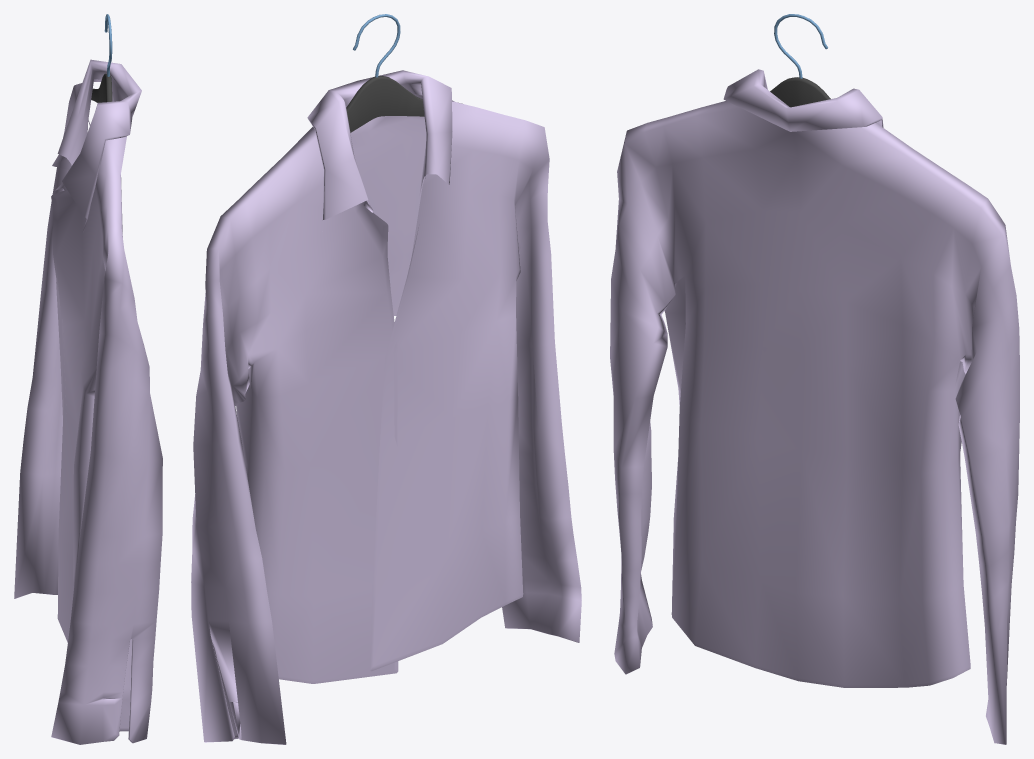
3 views of the same model, side by side, from view 1: azimuth 30°, elevation 25°; view 2: azimuth 150°, elevation 25°; view 3: azimuth 270°, elevation 25° (orthographic). The views are drawn at different scales.
Visible parts, largest first — view 1: rubashka001, Group006; view 2: rubashka001, Group006; view 3: rubashka001, Group006.
Boxes of the visible parts, left/top/right/bottom form: rubashka001: left=14, top=59, right=162, bottom=744; Group006: left=91, top=14, right=112, bottom=102; rubashka001: left=191, top=70, right=581, bottom=744; Group006: left=346, top=14, right=424, bottom=132; rubashka001: left=610, top=69, right=1019, bottom=744; Group006: left=770, top=14, right=830, bottom=107.
Size of the model in its own units: 29.3 by 83.65 by 44.76.
